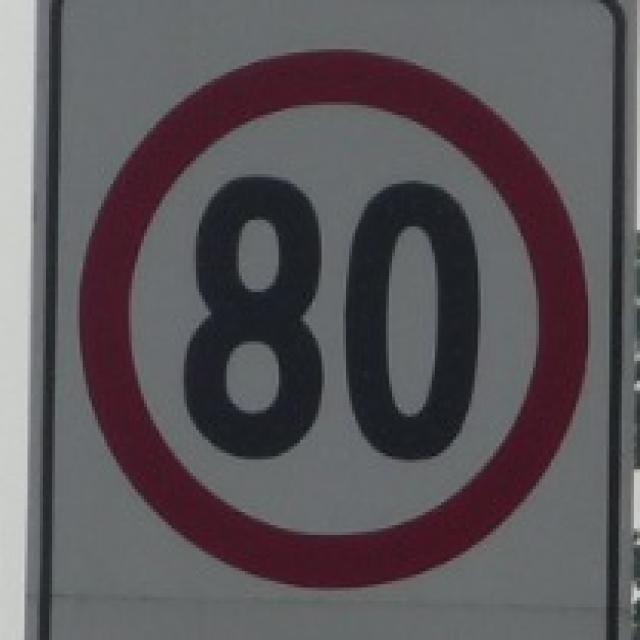Speed Limit -80-: (179, 168, 485, 464)
